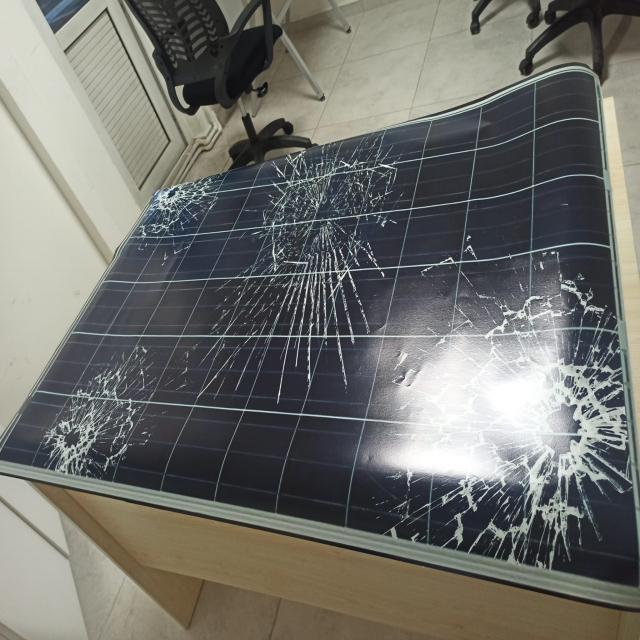faulty: (0, 62, 640, 610)
